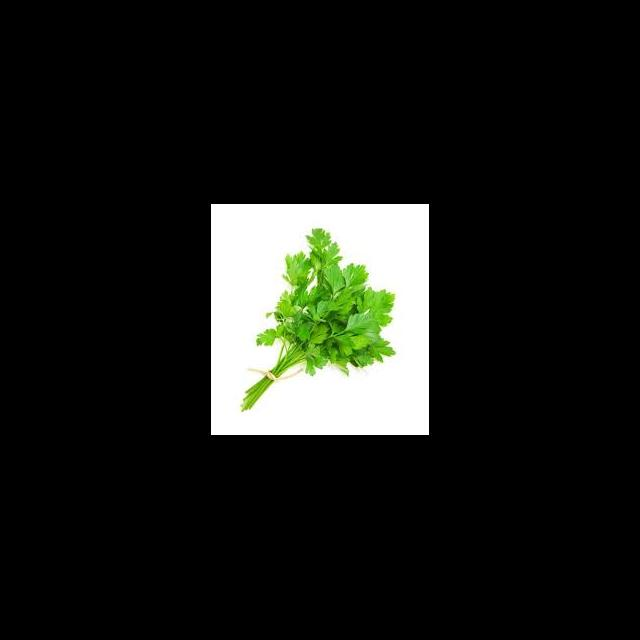cilantro: (240, 228, 396, 412)
